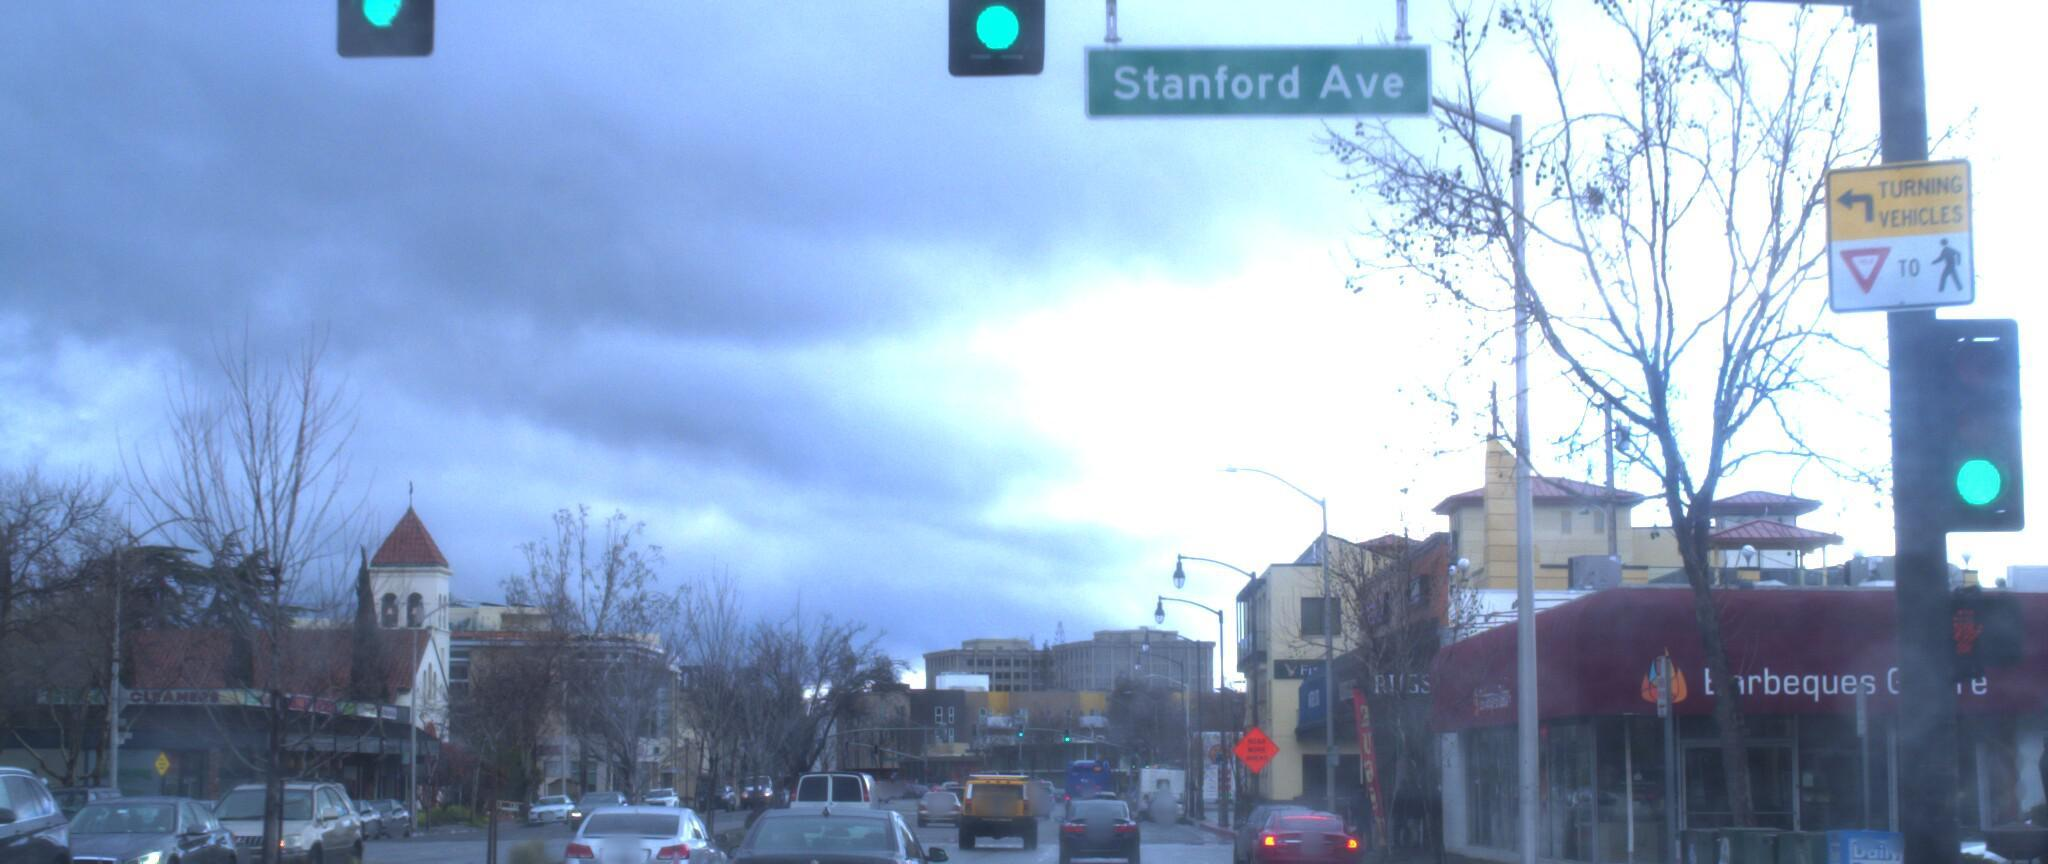car: (10, 778, 259, 864), (174, 758, 375, 864), (714, 791, 953, 864), (542, 780, 743, 864), (792, 762, 903, 864), (0, 757, 88, 864), (1247, 783, 1362, 864), (1062, 795, 1143, 864)
